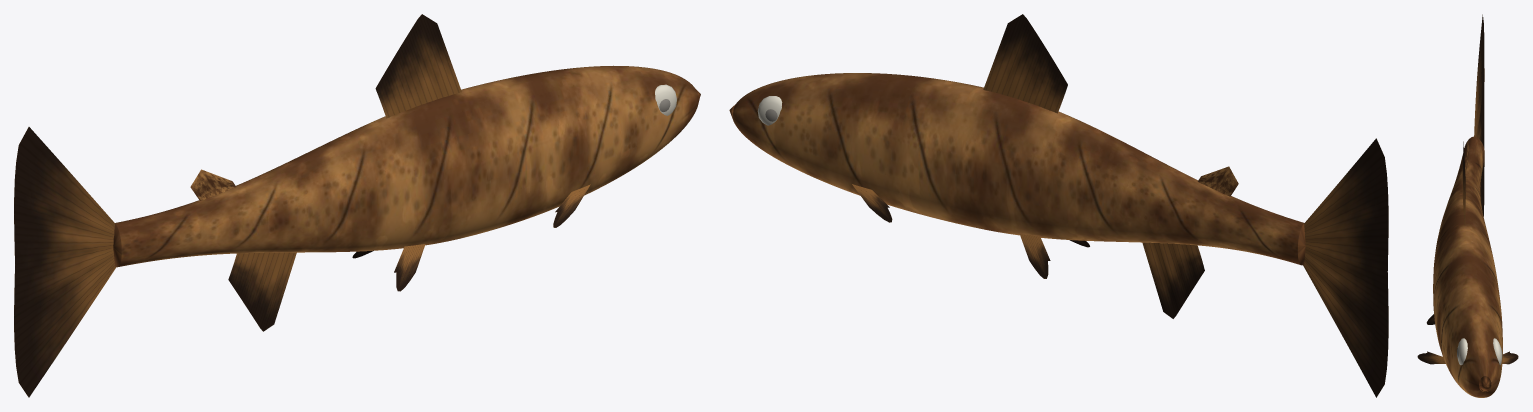
Rendered from fish_trout_cooked.gltf.
The picture shows the model from 3 angles, left to right: view 1: azimuth 30°, elevation 25°; view 2: azimuth 150°, elevation 25°; view 3: azimuth 270°, elevation 25°; orthographic projection. The views are drawn at different scales.
Parts seen in each view (by area): view 1: fish_trout_cooked; view 2: fish_trout_cooked; view 3: fish_trout_cooked.
Boxes of the visible parts, x1=… form: fish_trout_cooked: x1=14, y1=14, x2=700, y2=397; fish_trout_cooked: x1=729, y1=14, x2=1388, y2=397; fish_trout_cooked: x1=1417, y1=14, x2=1518, y2=397.
Size of the model in its own units: 0.3965 by 0.165 by 0.0628.
7 materials, 5 textured.
